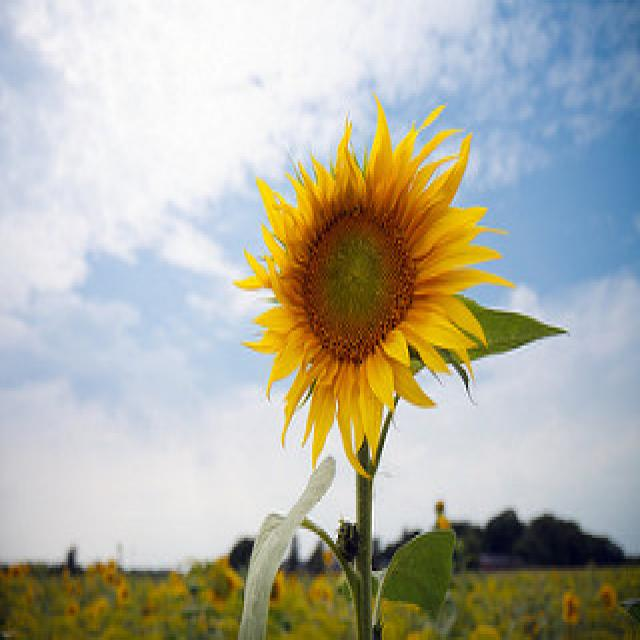sunflower: (229, 80, 521, 485)
